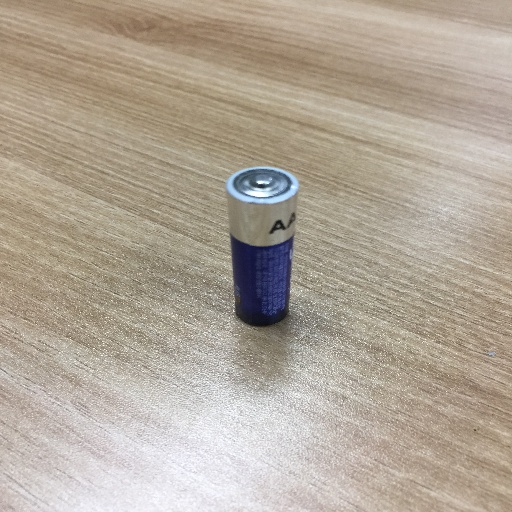Battery_0: (215, 155, 312, 344)
